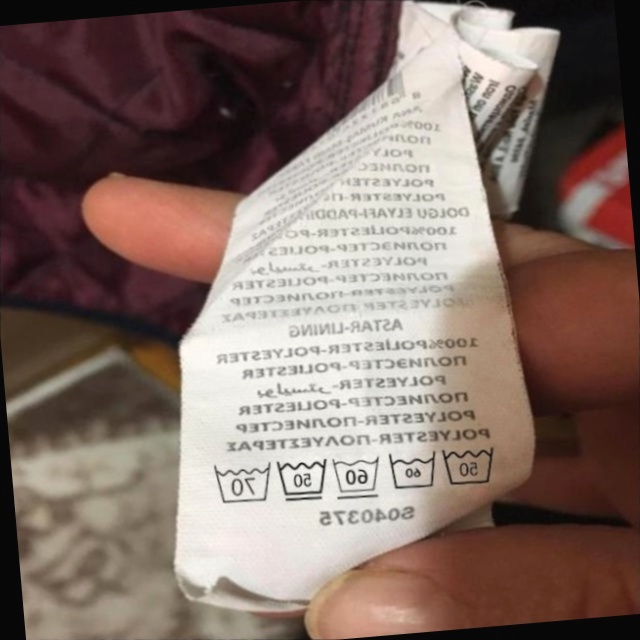50C: (434, 434, 505, 495), (269, 450, 334, 509)
60C: (324, 447, 386, 504), (380, 443, 442, 498)
70C: (204, 455, 275, 511)
